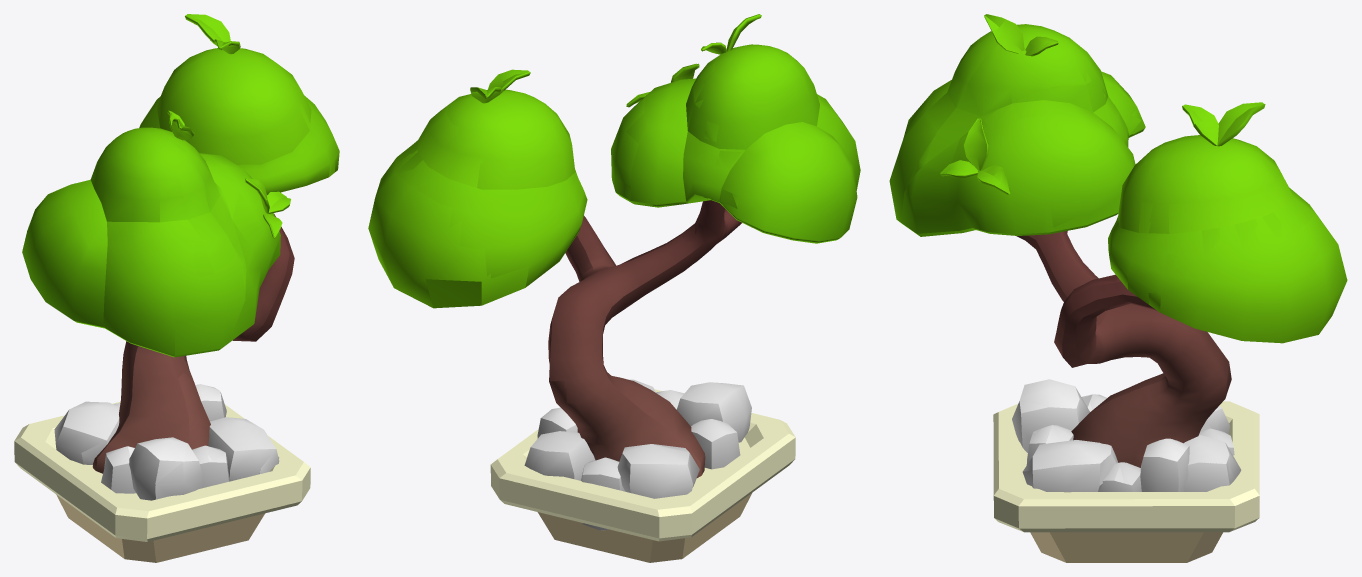
Rendered from Bonsai_cyberpunk.fbx.
3 renders of one model, left to right at view 1: azimuth 30°, elevation 25°; view 2: azimuth 150°, elevation 25°; view 3: azimuth 270°, elevation 25°, orthographic. The views are drawn at different scales.
Parts seen in each view (by area): view 1: bonsai_cyberpunk, bonsai_Part_1, bonsai_Part_2, bonsai_Part_3, bonsai_Part_5; view 2: bonsai_cyberpunk, bonsai_Part_4, bonsai_Part_1, bonsai_Part_3, bonsai_Part_5; view 3: bonsai_cyberpunk, bonsai_Part_1, bonsai_Part_4, bonsai_Part_3, bonsai_Part_5, bonsai_Part_2.
Boxes of the visible parts, bbox=[...] form: bonsai_cyberpunk: bbox=[14, 14, 339, 562]; bonsai_Part_1: bbox=[45, 226, 310, 562]; bonsai_Part_2: bbox=[74, 119, 245, 357]; bonsai_Part_3: bbox=[208, 155, 290, 342]; bonsai_Part_5: bbox=[162, 113, 246, 286]; bonsai_cyberpunk: bbox=[395, 14, 860, 562]; bonsai_Part_4: bbox=[368, 75, 528, 308]; bonsai_Part_1: bbox=[490, 169, 757, 549]; bonsai_Part_3: bbox=[611, 64, 737, 218]; bonsai_Part_5: bbox=[693, 21, 742, 207]; bonsai_cyberpunk: bbox=[903, 14, 1321, 505]; bonsai_Part_1: bbox=[993, 195, 1259, 562]; bonsai_Part_4: bbox=[1115, 103, 1347, 343]; bonsai_Part_3: bbox=[901, 83, 1141, 236]; bonsai_Part_5: bbox=[910, 19, 1140, 181]; bonsai_Part_2: bbox=[889, 14, 1005, 223].
Bounding box in the file's own units: 137 × 165 × 140.
